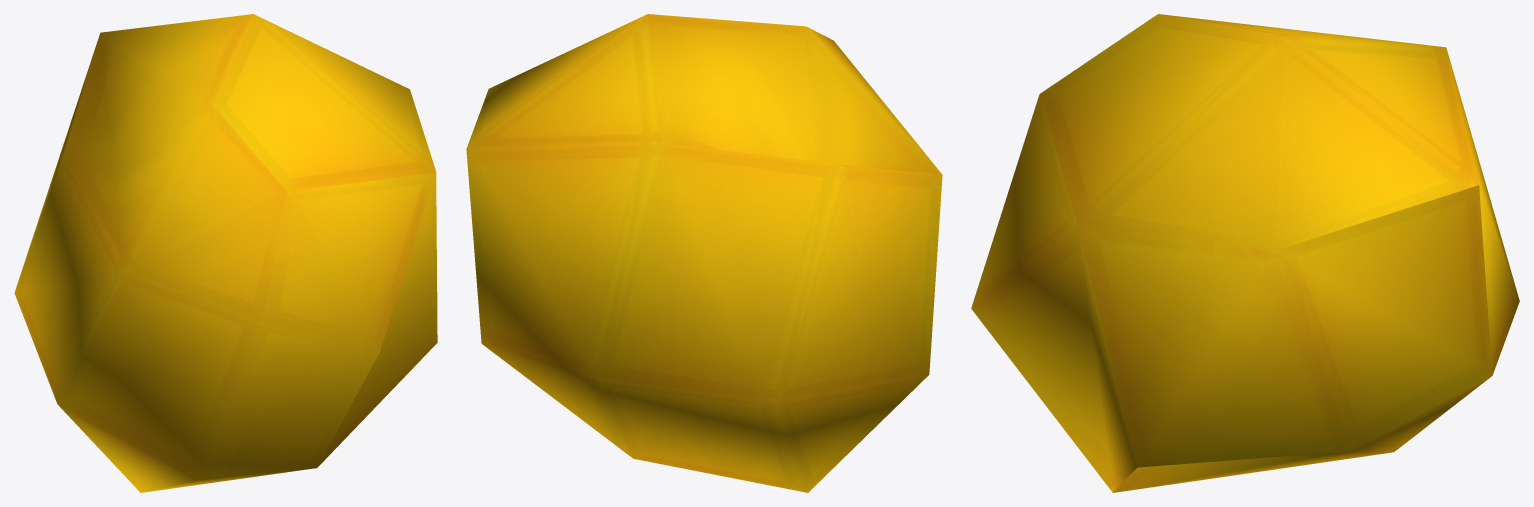
File: ore1tex.fbx
3 renders of one model, left to right at view 1: azimuth 30°, elevation 25°; view 2: azimuth 150°, elevation 25°; view 3: azimuth 270°, elevation 25°, orthographic. The views are drawn at different scales.
Parts seen in each view (by area): view 1: ore1tex; view 2: ore1tex; view 3: ore1tex.
Part boxes in pixels (x1,y1,x2,y2): ore1tex: (14,14,437,492); ore1tex: (466,14,942,492); ore1tex: (971,14,1519,492).
Bounding box in the file's own units: 0.4296 × 0.4631 × 0.4583.
